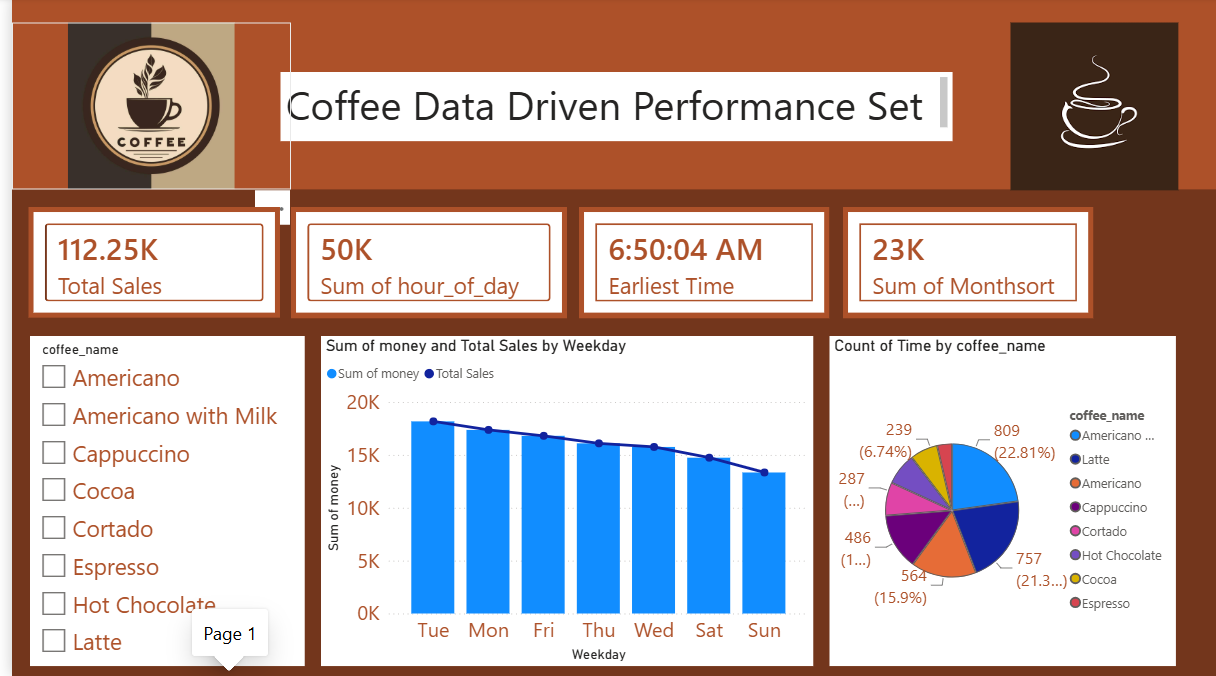

Layout of this report page (visuals, bound fields, positions):
{"tool":"powerbi","page":{"name":"Page 1","canvas":[1280,720],"ordinal":0},"visuals":[{"type":"textbox","box":[0,0,1279.4,204.1],"z":0},{"type":"textbox","box":[284.7,79.5,712.6,73.2],"z":1000},{"type":"image","box":[0,27,295.9,176.6],"z":2000},{"type":"cardVisual","fields":{"Data":["Coffe_sales.Total Sales"]},"box":[17,223,266.5,117.2],"z":3000},{"type":"cardVisual","fields":{"Data":["Sum(Coffe_sales.hour_of_day)"]},"box":[295.9,222.7,292.7,117.7],"z":4000},{"type":"cardVisual","fields":{"Data":["Min(Coffe_sales.Time)"]},"box":[601.3,222.7,265.6,117.7],"z":5000},{"type":"cardVisual","fields":{"Data":["Sum(Coffe_sales.Monthsort)"]},"box":[881.2,222.7,265.6,117.7],"z":6000},{"type":"slicer","fields":{"Values":["Coffe_sales.coffee_name"]},"box":[19.1,359.5,291.1,349.9],"z":7000},{"type":"lineClusteredColumnComboChart","fields":{"Category":["Coffe_sales.Weekday"],"Y":["Sum(Coffe_sales.money)"],"Y2":["Coffe_sales.Total Sales"]},"box":[327.7,359.5,521.7,349.9],"z":8000},{"type":"pieChart","fields":{"Category":["Coffe_sales.coffee_name"],"Y":["CountNonNull(Coffe_sales.Time)"]},"box":[866.9,359.5,367.4,349.9],"z":9000},{"type":"image","box":[1014.8,27,265.6,178.1],"z":10000}]}

Visuals, with their boxes in screenshot pixels (x1, y1, x2, y2), scaled from the page's 1280x720 canvas onto the 1216x676 screenshot:
textbox: bbox=(0, 0, 1215, 192)
textbox: bbox=(270, 75, 947, 143)
image: bbox=(0, 25, 281, 191)
cardVisual - Coffe_sales.Total Sales: bbox=(16, 209, 269, 319)
cardVisual - Sum(Coffe_sales.hour_of_day): bbox=(281, 209, 559, 320)
cardVisual - Min(Coffe_sales.Time): bbox=(571, 209, 824, 320)
cardVisual - Sum(Coffe_sales.Monthsort): bbox=(837, 209, 1089, 320)
slicer - Coffe_sales.coffee_name: bbox=(18, 338, 295, 666)
lineClusteredColumnComboChart - Coffe_sales.Weekday x Sum(Coffe_sales.money): bbox=(311, 338, 807, 666)
pieChart - Coffe_sales.coffee_name x CountNonNull(Coffe_sales.Time): bbox=(824, 338, 1173, 666)
image: bbox=(964, 25, 1215, 193)
